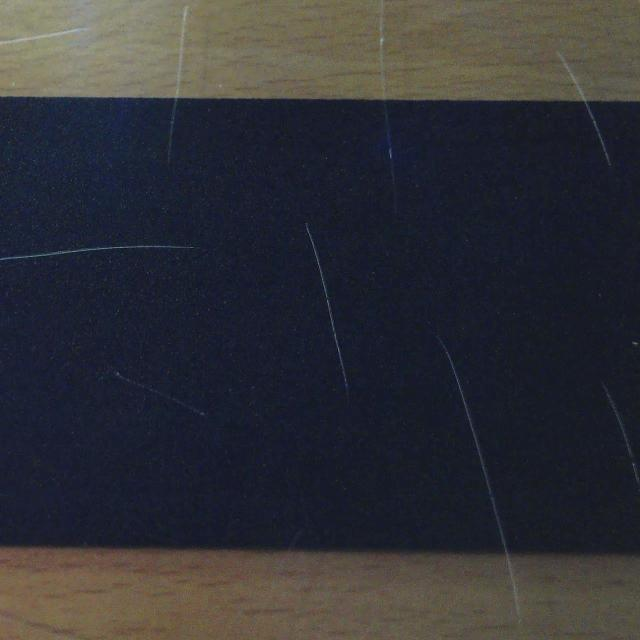defect: (439, 339, 511, 553), (304, 220, 356, 398), (0, 240, 198, 264), (113, 370, 210, 418), (603, 383, 640, 490), (583, 102, 614, 166), (377, 102, 402, 180), (162, 100, 181, 164)
